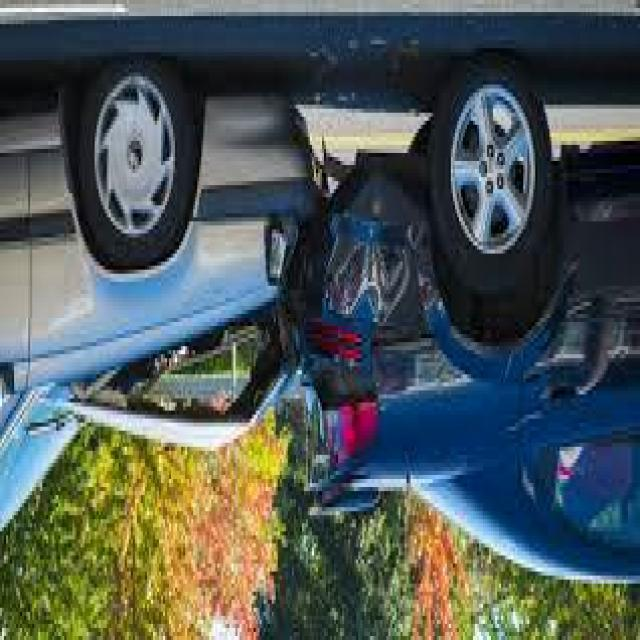moderate: (2, 44, 638, 600)
